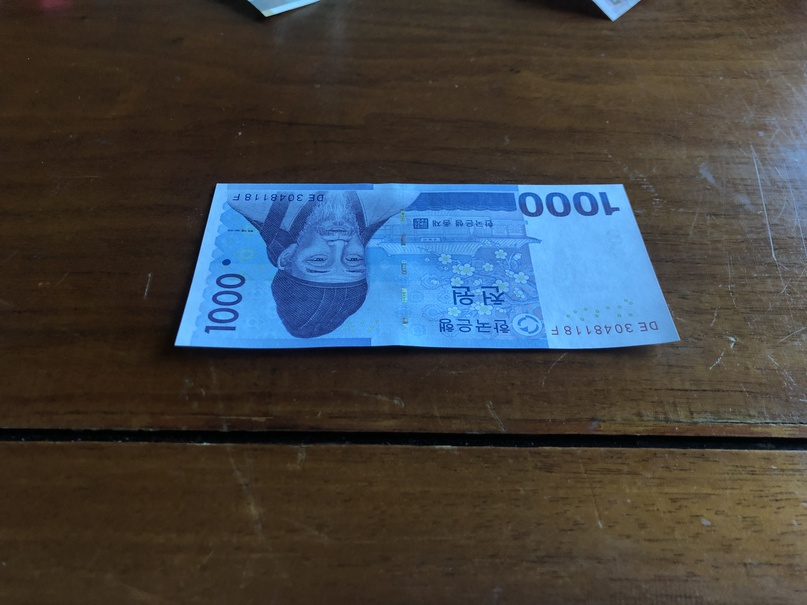1000won: (174, 180, 682, 351)
